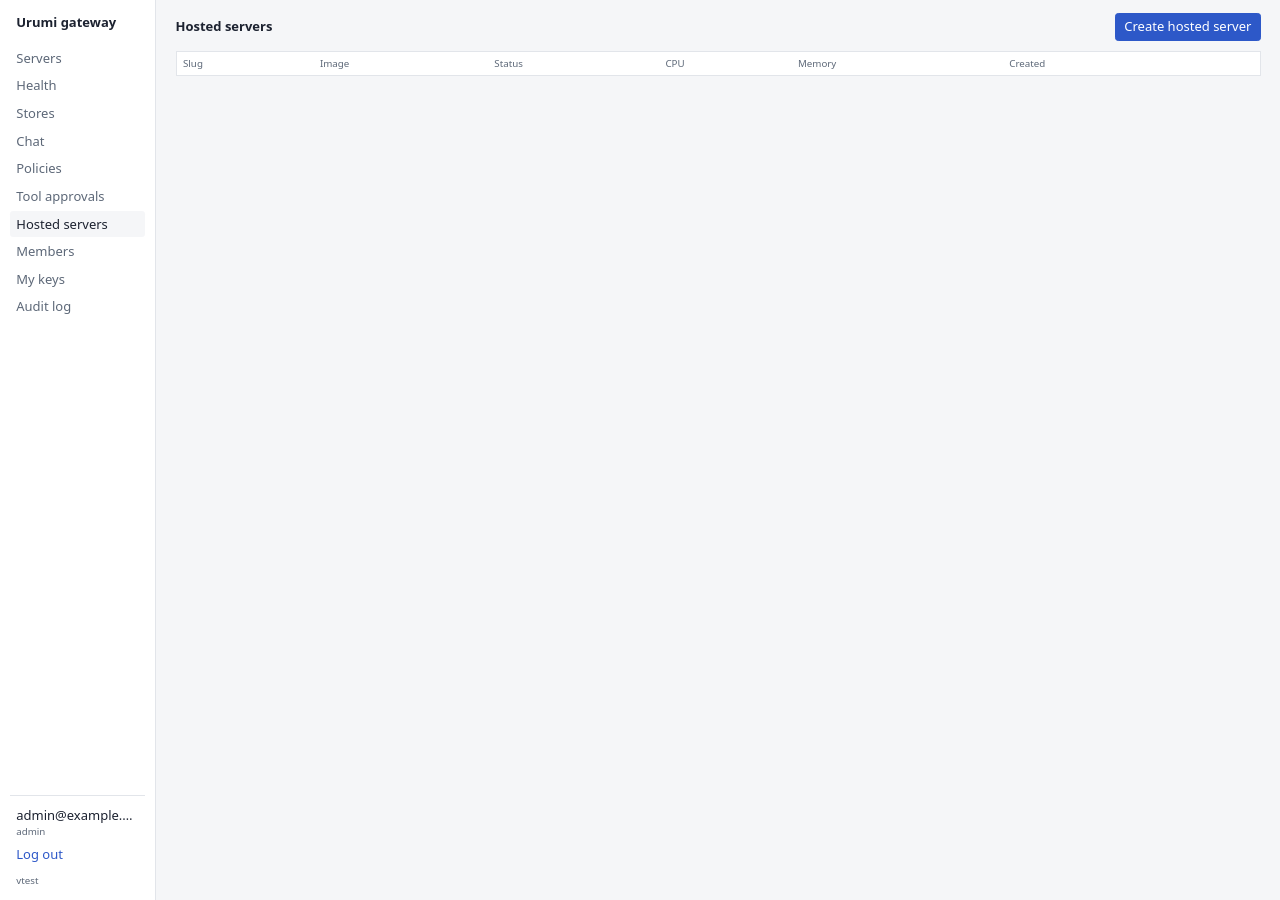
Test case: Hosted servers page through the real routes › a 400 image_not_allowed shows the allowed prefixes
Click the button "Create hosted server".
click(1188, 27)  # box [1115,13,1260,41]
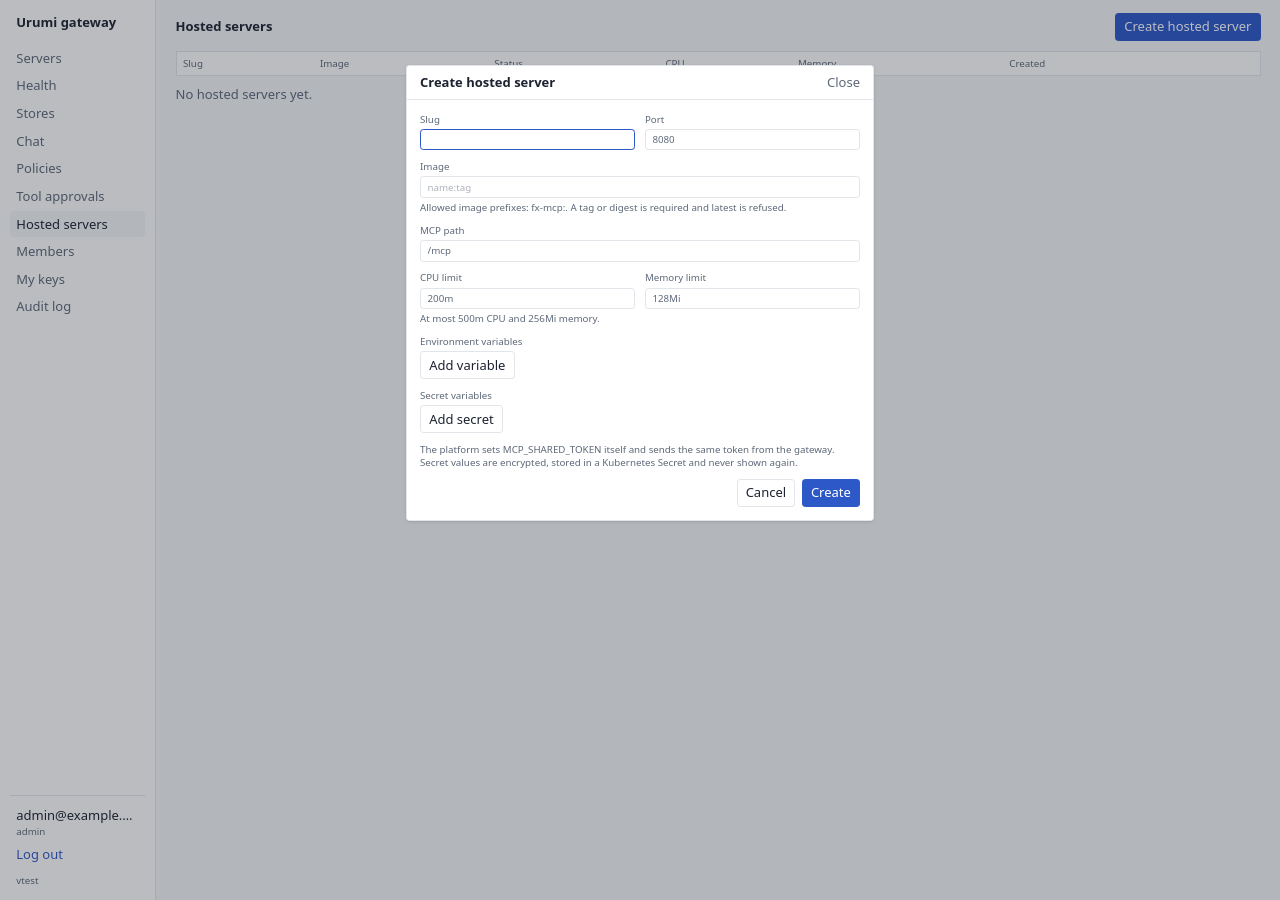
Type "bb" into the field labelled "Slug".
click(528, 140); type("bb")  # box [420,129,635,150]
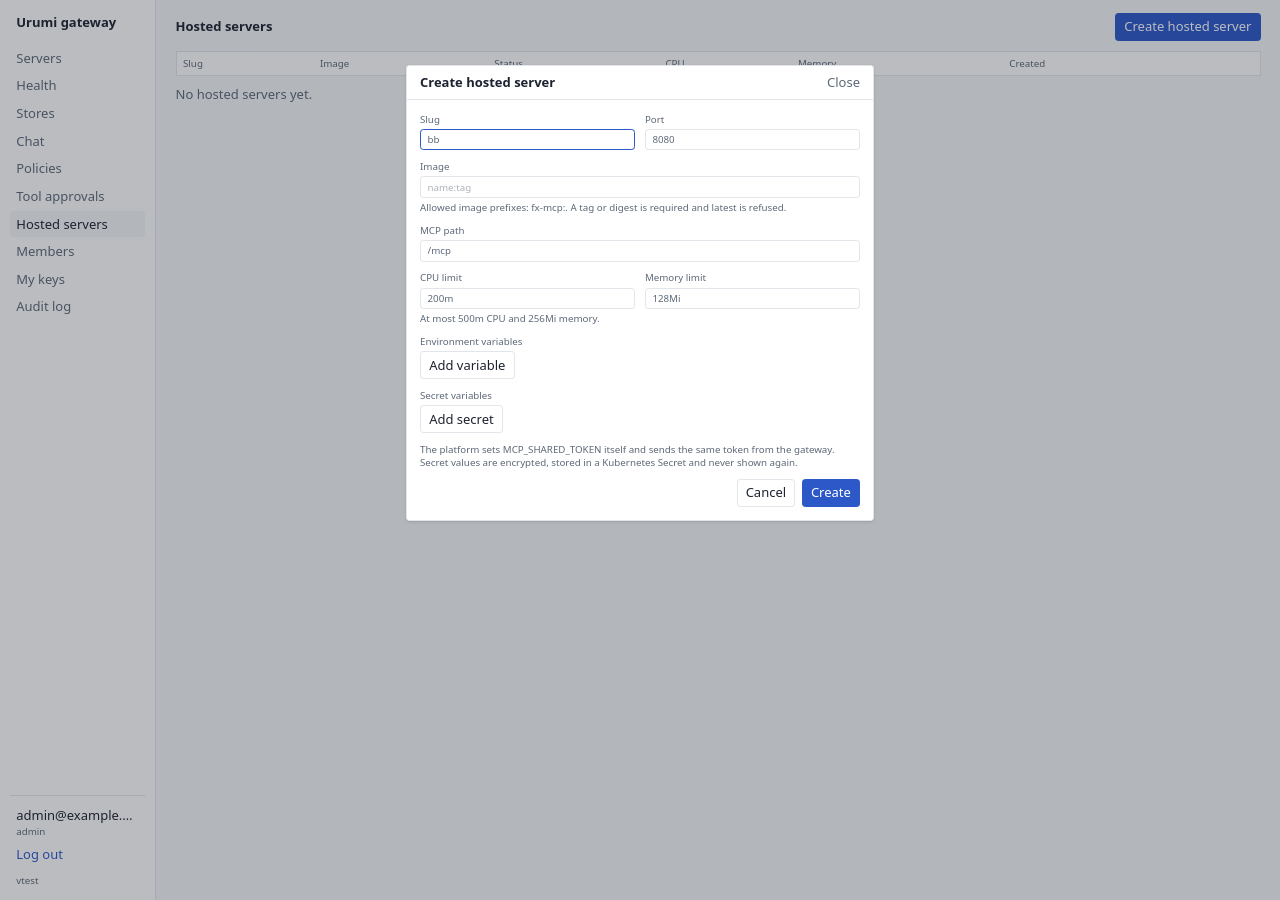
Type "busybox:1.37" into the field labelled "Image".
click(640, 187); type("busybox:1.37")  # box [420,176,860,198]
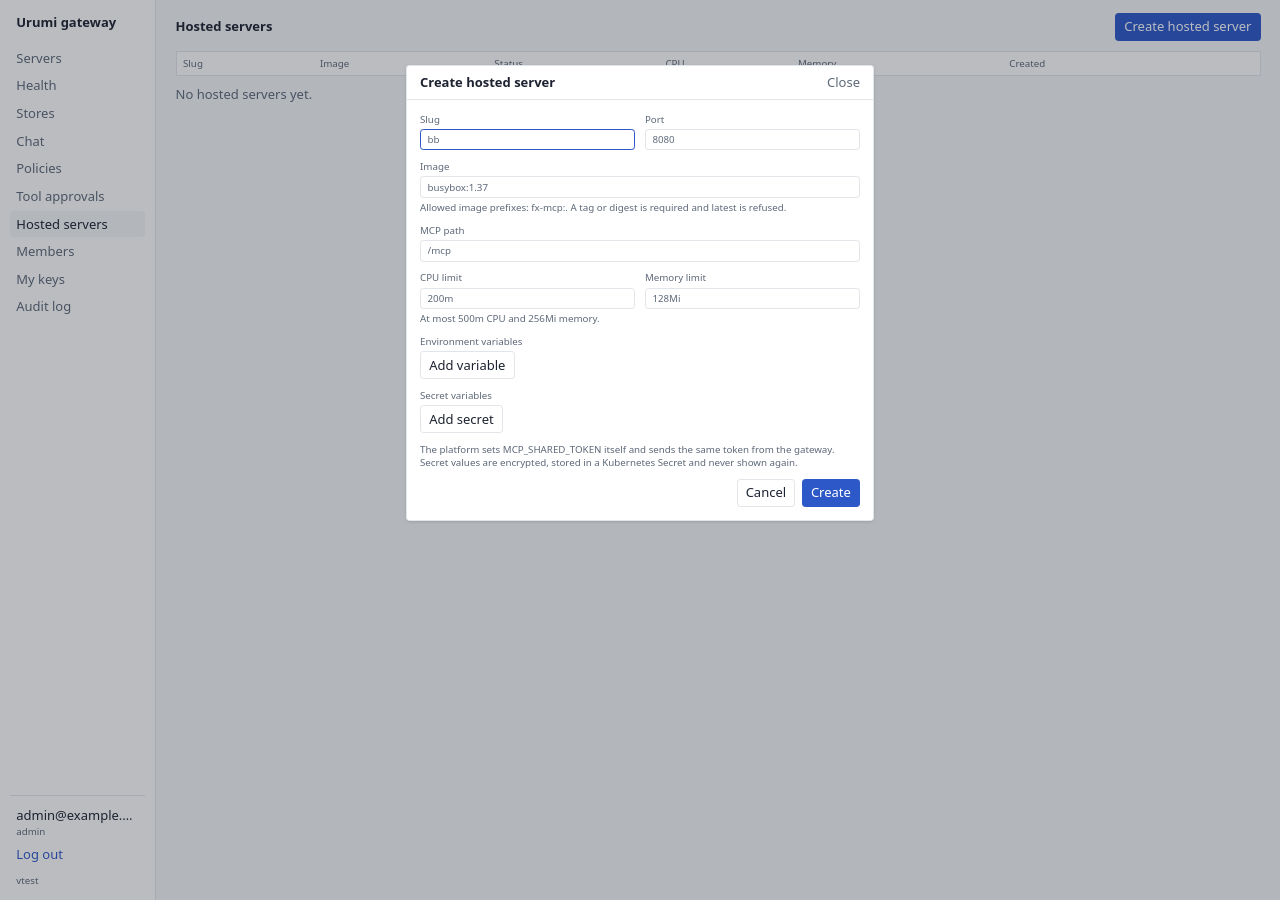
Click the button "Create".
click(831, 493)  # box [802,479,860,507]
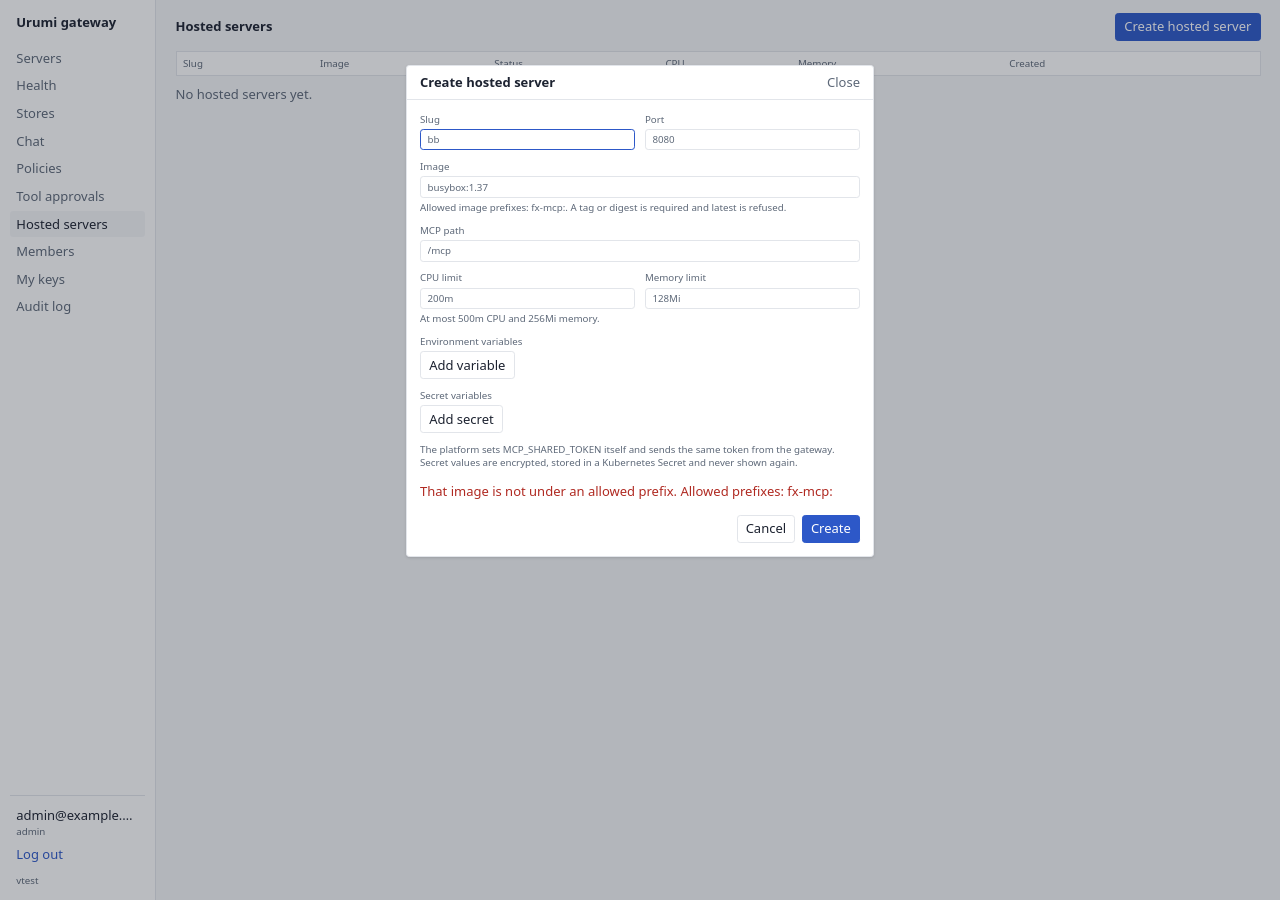
Check: the message shows "not under an allowed prefix", box [420,482,833,500]
Check: the message shows "fx-mcp:", box [420,482,833,500]
